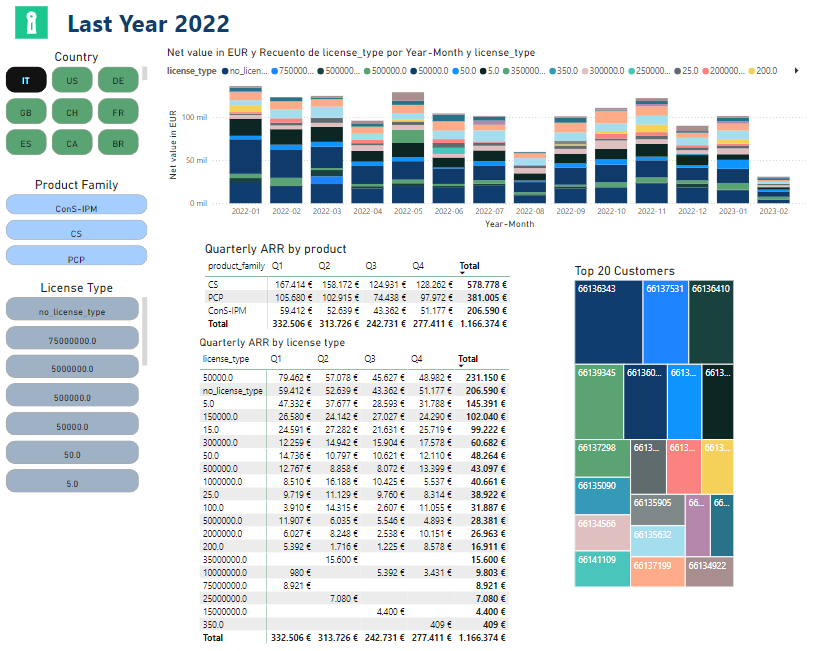

This screenshot's page, from the dashboard's own definition file:
{"tool":"powerbi","page":{"name":"Actual","canvas":[1280,1220],"ordinal":2},"visuals":[{"type":"columnChart","fields":{"Category":["subscriptions.Year-Month"],"Y":["subscriptions.Net value in EUR"],"Series":["subscriptions.license_type"]},"box":[255.3,83.3,991.7,286.7],"z":0},{"type":"advancedSlicerVisual","title":"Country","fields":{"Values":["users.country_code"]},"box":[8.6,90,228.3,168.3],"z":1000},{"type":"advancedSlicerVisual","title":"Product Family","fields":{"Values":["subscriptions.product_family"]},"box":[8.6,285.7,228.6,141.4],"z":2000},{"type":"advancedSlicerVisual","title":"License Type","fields":{"Values":["subscriptions.license_type"]},"box":[8.6,444.3,228.6,335.7],"z":3000},{"type":"pivotTable","title":"Quarterly ARR by product","fields":{"Values":["subscriptions.2022 Net value"],"Columns":["subscriptions.Quarter"],"Rows":["subscriptions.product_family"]},"box":[313.6,385,546.7,145],"z":4000},{"type":"image","box":[17.1,18.6,70,60],"z":5000},{"type":"pivotTable","title":"Quarterly ARR by license type","fields":{"Values":["subscriptions.2022 Net value"],"Columns":["subscriptions.Quarter"],"Rows":["subscriptions.license_type"]},"box":[306,530,531.4,524.3],"z":6000},{"type":"treemap","title":"Top 20 Customers","fields":{"Group":["users.id"],"Values":["Sum(subscriptions.Total Net Value in EUR)"]},"box":[882.9,417.1,254.3,502.9],"z":7000},{"type":"textbox","box":[102.3,18.5,948.5,60],"z":8000}]}

Visuals, with their boxes on the page's 1280x1220 design canvas (x1, y1, x2, y2). These are canvas units, not pixel positions in the 818x651 screenshot, which may show the page scaled, cropped or inside an application window:
columnChart - subscriptions.Year-Month x subscriptions.Net value in EUR: (x1=255, y1=83, x2=1247, y2=370)
"Country" advancedSlicerVisual: (x1=9, y1=90, x2=237, y2=258)
"Product Family" advancedSlicerVisual: (x1=9, y1=286, x2=237, y2=427)
"License Type" advancedSlicerVisual: (x1=9, y1=444, x2=237, y2=780)
"Quarterly ARR by product" pivotTable: (x1=314, y1=385, x2=860, y2=530)
image: (x1=17, y1=19, x2=87, y2=79)
"Quarterly ARR by license type" pivotTable: (x1=306, y1=530, x2=837, y2=1054)
"Top 20 Customers" treemap: (x1=883, y1=417, x2=1137, y2=920)
textbox: (x1=102, y1=18, x2=1051, y2=78)
